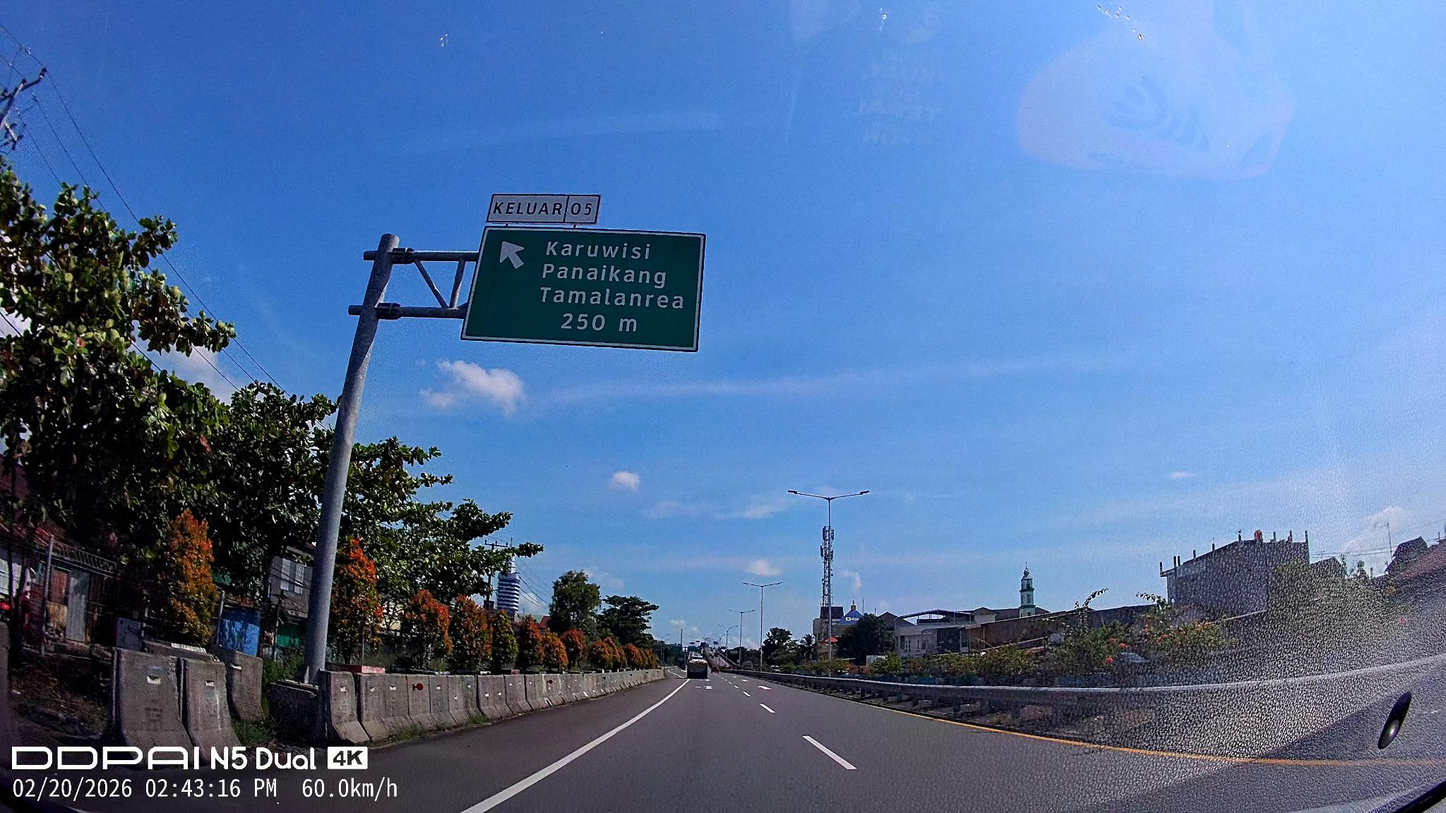rambu_teks: (463, 225, 706, 352)
